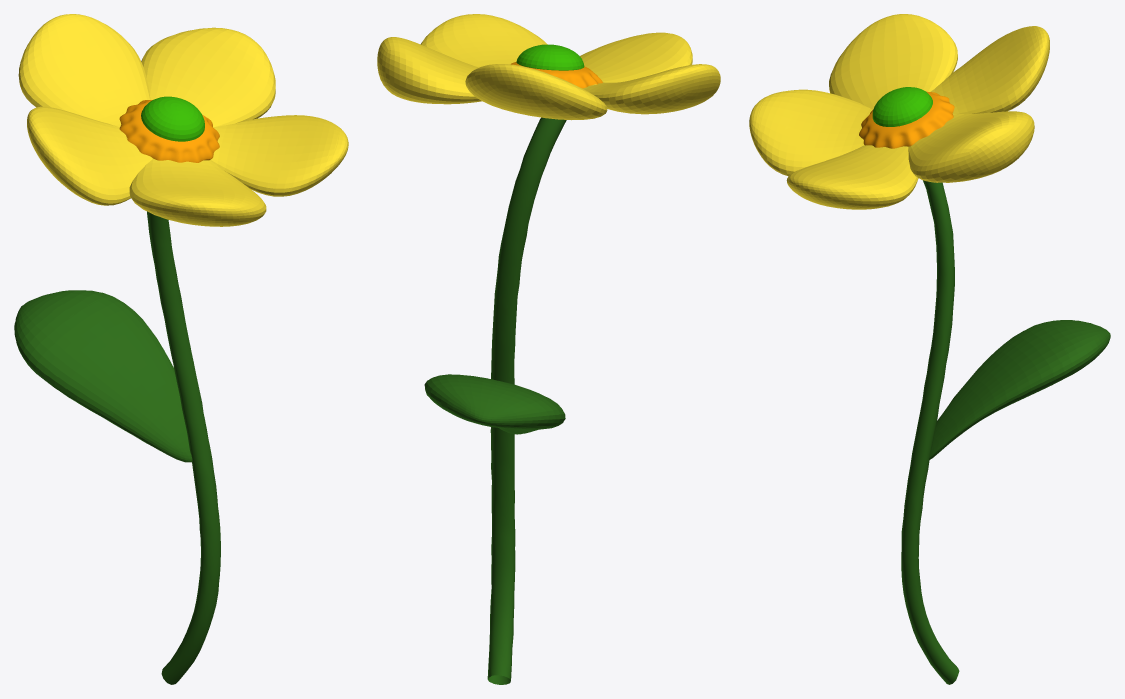
3 renders of one model, left to right at view 1: azimuth 30°, elevation 25°; view 2: azimuth 150°, elevation 25°; view 3: azimuth 270°, elevation 25°, orthographic. The views are drawn at different scales.
Parts seen in each view (by area): view 1: f07; view 2: f07; view 3: f07.
Boxes of the visible parts, x1,y1,x2,y2 form: f07: [14, 14, 348, 684]; f07: [377, 14, 720, 684]; f07: [749, 14, 1110, 684].
Size of the model in its own units: 0.2884 by 0.6231 by 0.3287.
